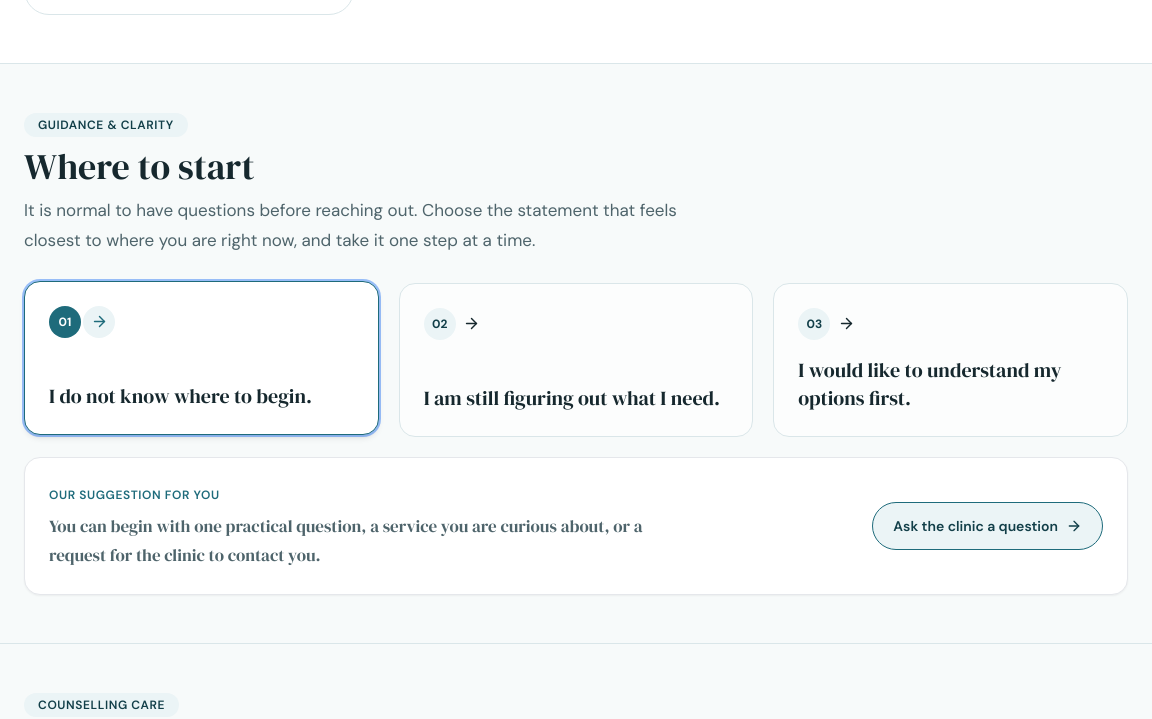
Scenario: public routes and navigation › changes the supportive response when a visitor selects a concern
(page scrolled)
Click the button "02 I am still figuring out what I need." at (440, 324), box [399,283,753,437]
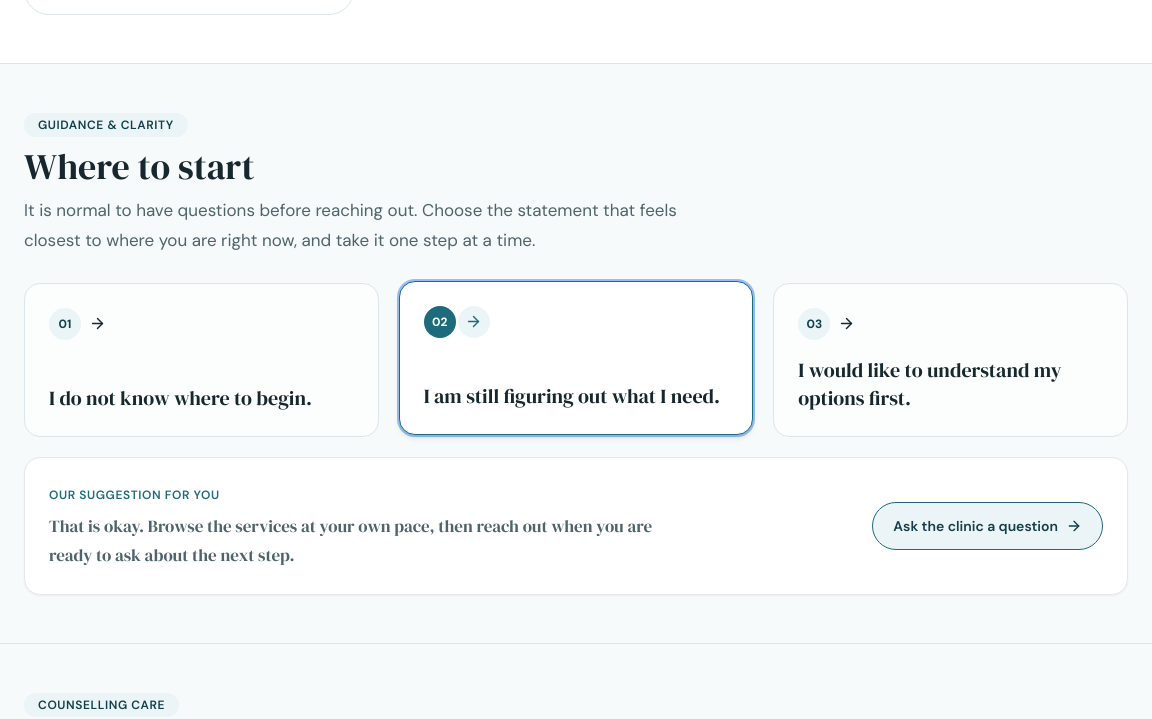
Expected: the text "Browse the services at your own pace" is shown, [49,514,652,567]
